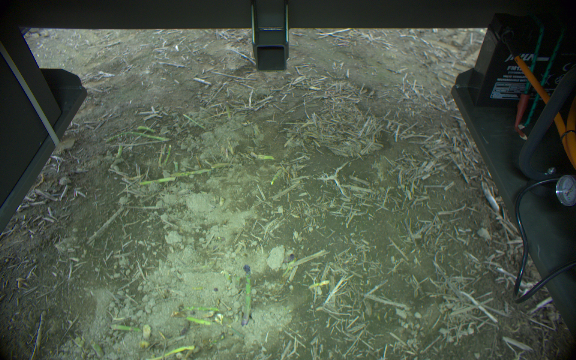aspa: (105, 130, 173, 143), (239, 262, 252, 324), (152, 343, 197, 357), (178, 303, 222, 313), (104, 321, 143, 332), (136, 176, 176, 186), (247, 151, 277, 164), (173, 168, 212, 177), (185, 315, 211, 327), (284, 252, 298, 273), (133, 123, 157, 133), (115, 138, 124, 158)
